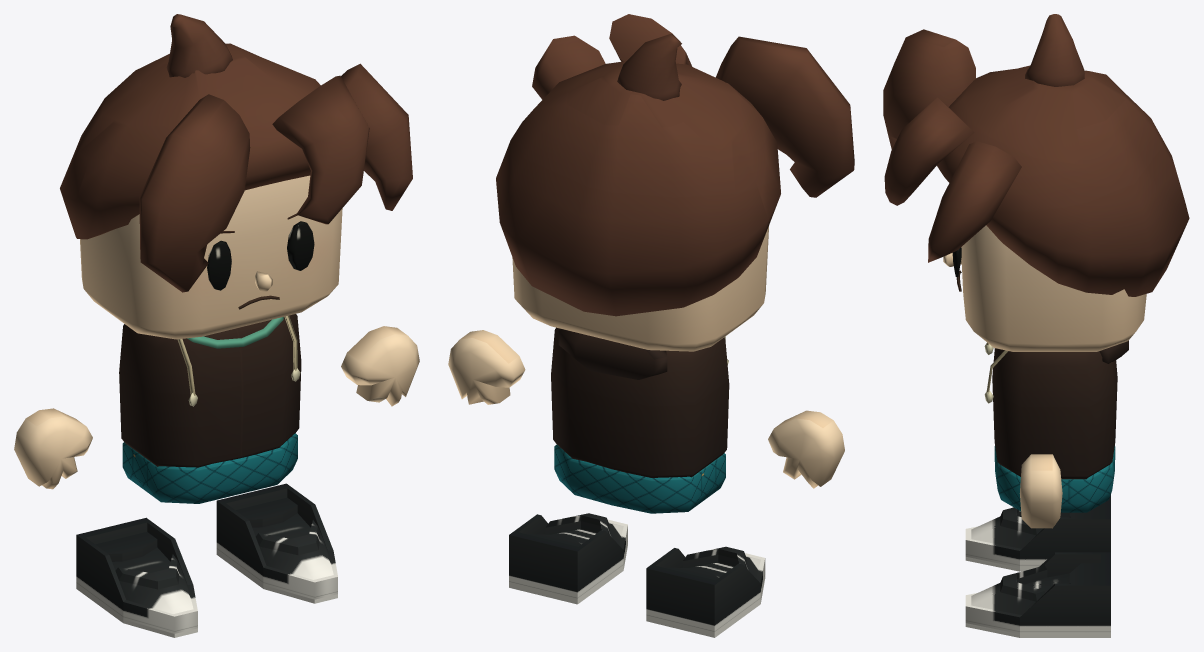
Rendered from Antonio_004.fbx.
3 views of the same model, side by side, from view 1: azimuth 30°, elevation 25°; view 2: azimuth 150°, elevation 25°; view 3: azimuth 270°, elevation 25° (orthographic). The views are drawn at different scales.
Parts seen in each view (by area): view 1: Antonio_CabelloLP_001, Antonio_TorsoLP_001, Antonio_CabezaLP_001, Antonio_ZapatoILP_001, Antonio_ZapatoDLP_001, Antonio_ManoILP_001, Antonio_ManoDLP_001; view 2: Antonio_CabelloLP_001, Antonio_TorsoLP_001, Antonio_CabezaLP_001, Antonio_ZapatoDLP_001, Antonio_ZapatoILP_001, Antonio_ManoILP_001, Antonio_ManoDLP_001; view 3: Antonio_CabelloLP_001, Antonio_TorsoLP_001, Antonio_CabezaLP_001, Antonio_ZapatoILP_001, Antonio_ZapatoDLP_001, Antonio_ManoILP_001.
Part boxes in pixels (x1,y1,x2,y2): Antonio_CabelloLP_001: (60,14,412,292); Antonio_TorsoLP_001: (119,314,301,503); Antonio_CabezaLP_001: (80,175,342,339); Antonio_ZapatoILP_001: (216,483,337,603); Antonio_ZapatoDLP_001: (76,517,197,637); Antonio_ManoILP_001: (341,326,419,406); Antonio_ManoDLP_001: (14,408,92,489); Antonio_CabelloLP_001: (496,14,854,316); Antonio_TorsoLP_001: (551,327,729,513); Antonio_CabezaLP_001: (512,225,769,351); Antonio_ZapatoDLP_001: (646,546,765,637); Antonio_ZapatoILP_001: (509,513,627,604); Antonio_ManoILP_001: (448,330,525,404); Antonio_ManoDLP_001: (768,410,844,488); Antonio_CabelloLP_001: (883,14,1189,296); Antonio_TorsoLP_001: (984,340,1128,512); Antonio_CabezaLP_001: (943,225,1146,351); Antonio_ZapatoILP_001: (965,552,1110,637); Antonio_ZapatoDLP_001: (965,495,1110,571); Antonio_ManoILP_001: (1019,454,1062,528).
Bounding box in the file's own units: 1.16 × 1.62 × 0.8007.
